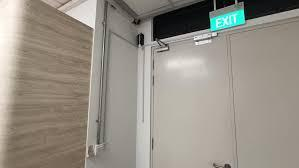exit: (151, 21, 298, 167)
lit_exit_sign: (210, 7, 245, 32)
